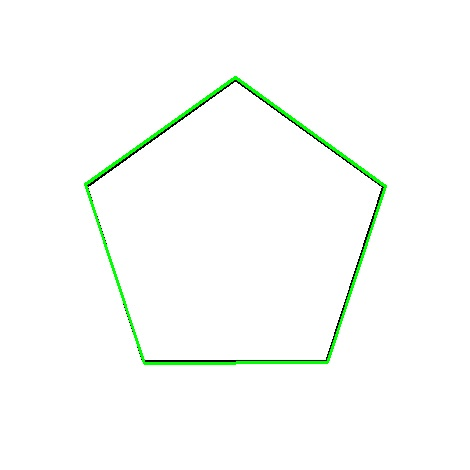line_segment: (85, 77, 386, 364)
